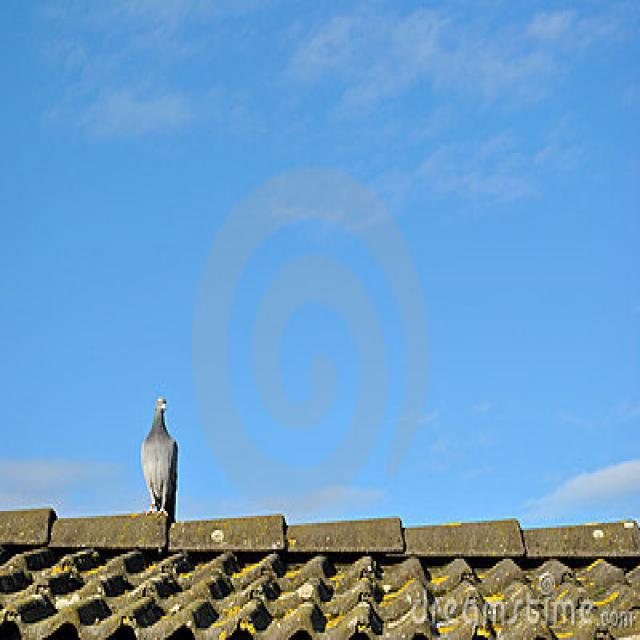bird: (139, 395, 180, 527)
